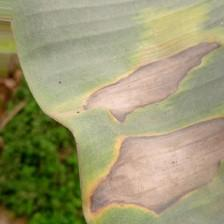cordana: (11, 0, 224, 224)
